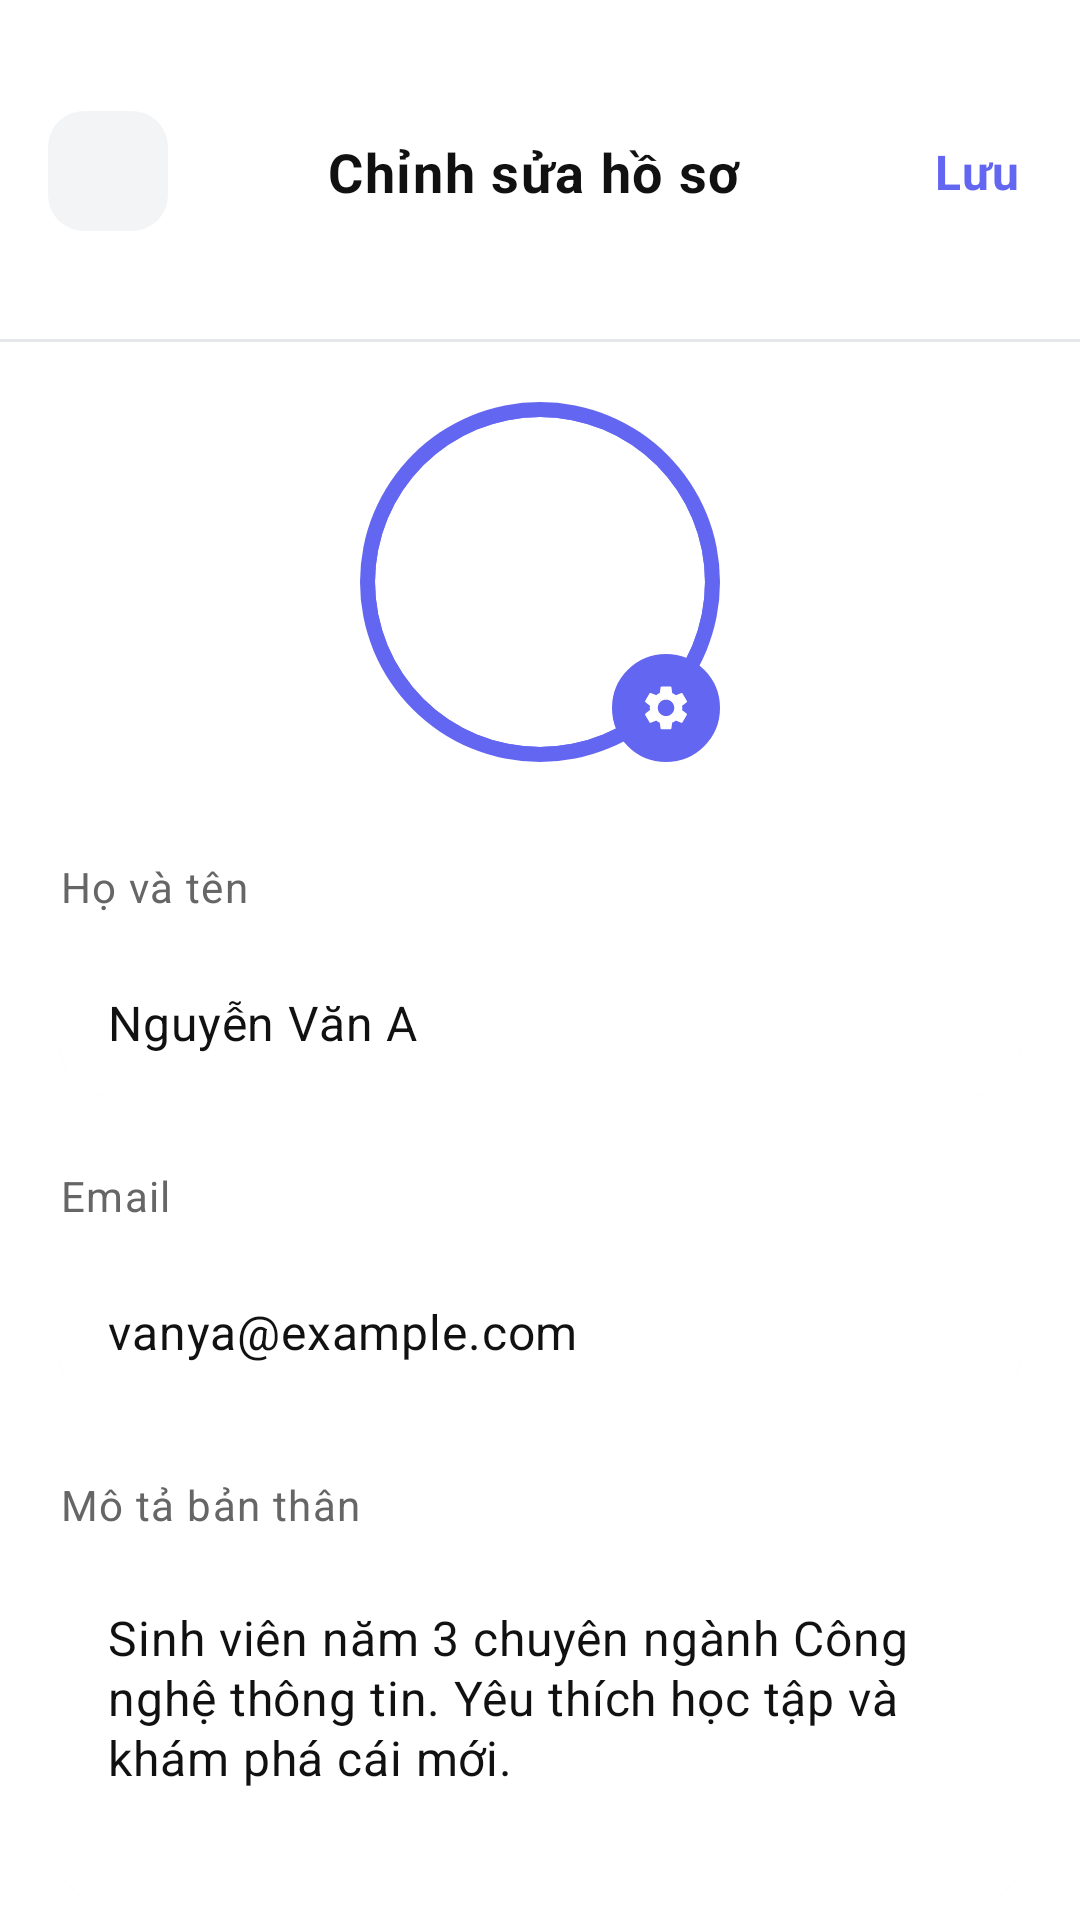

Screen size 1080px×1920px. Icon name, then its center in pixels as point (x, y):
settings: point (666, 708)
